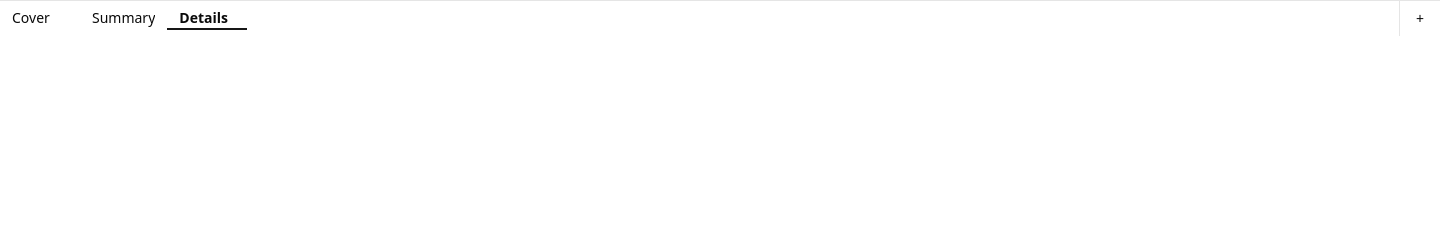
Scenario: PageTabBar › context menu Move Right is disabled for last page
Right-click the element with test id "page-tab-page-3": (207, 18) [167,8,247,30]
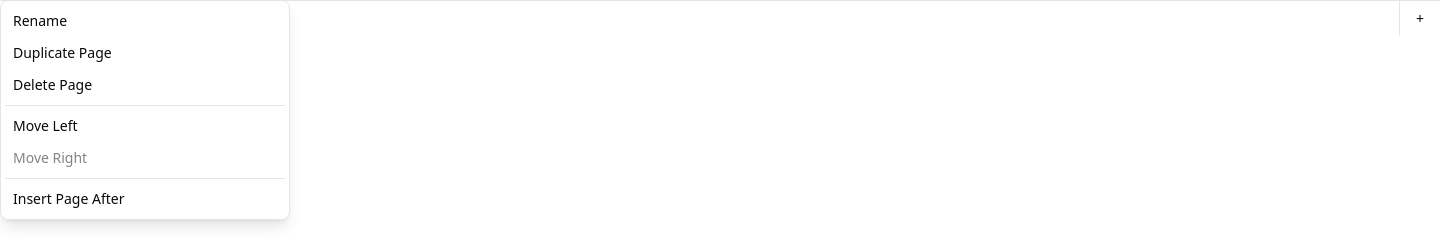
Expected: the button "Move Right" is disabled, [5,142,285,174]
